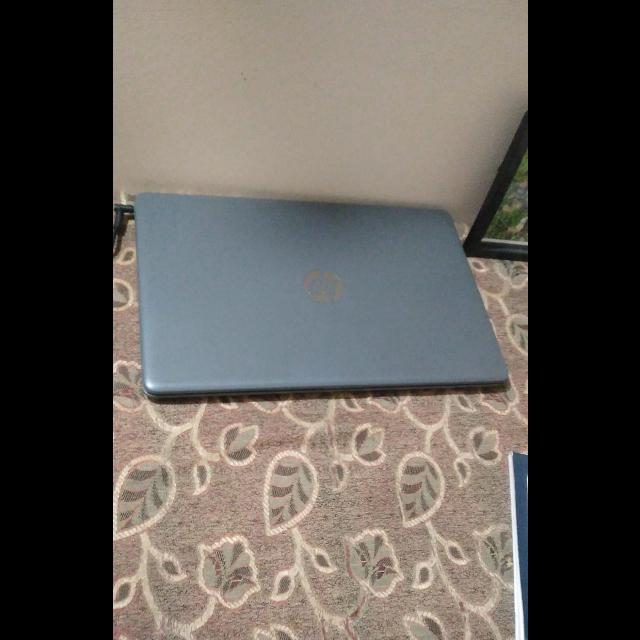laptop: (120, 181, 496, 415)
